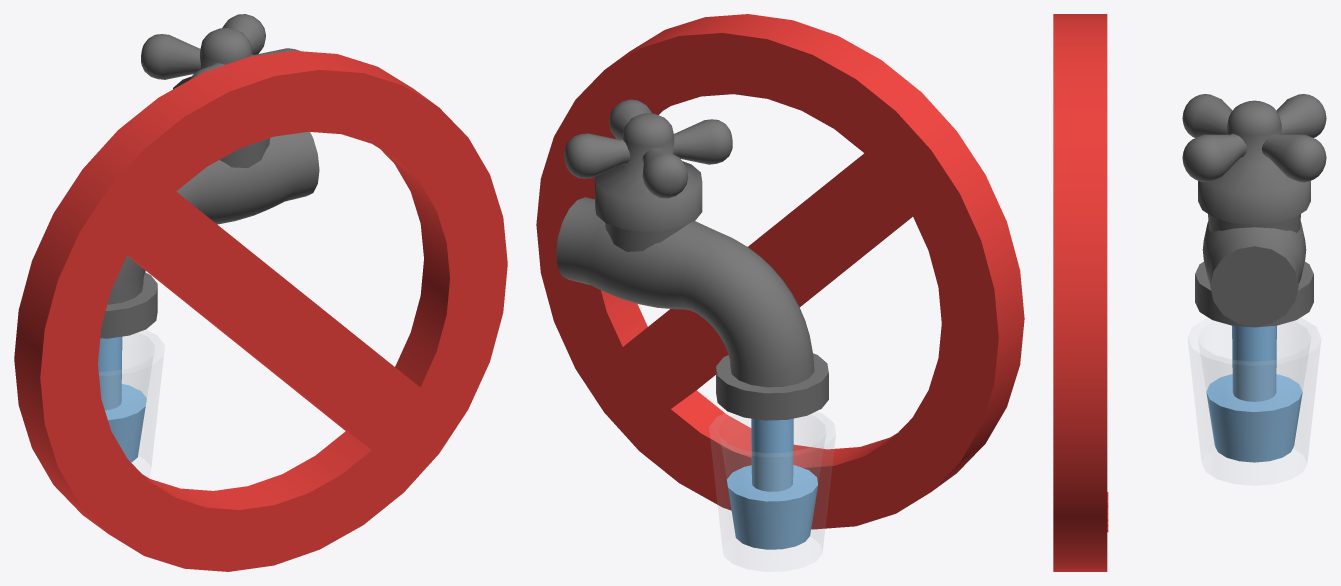
Rendered from non_potable_water.fbx.
The picture shows the model from 3 angles, left to right: view 1: azimuth 30°, elevation 25°; view 2: azimuth 150°, elevation 25°; view 3: azimuth 270°, elevation 25°; orthographic projection. The views are drawn at different scales.
Visible parts, largest first — view 1: Circle.2623; view 2: Circle.2623; view 3: Circle.2623.
Part boxes in pixels (box(x1,y1,x2,y2)): Circle.2623: box(14, 14, 507, 571); Circle.2623: box(536, 14, 1024, 571); Circle.2623: box(1053, 14, 1326, 571).
Bounding box in the file's own units: 192 × 192 × 94.09.
2 materials, 1 textured.
